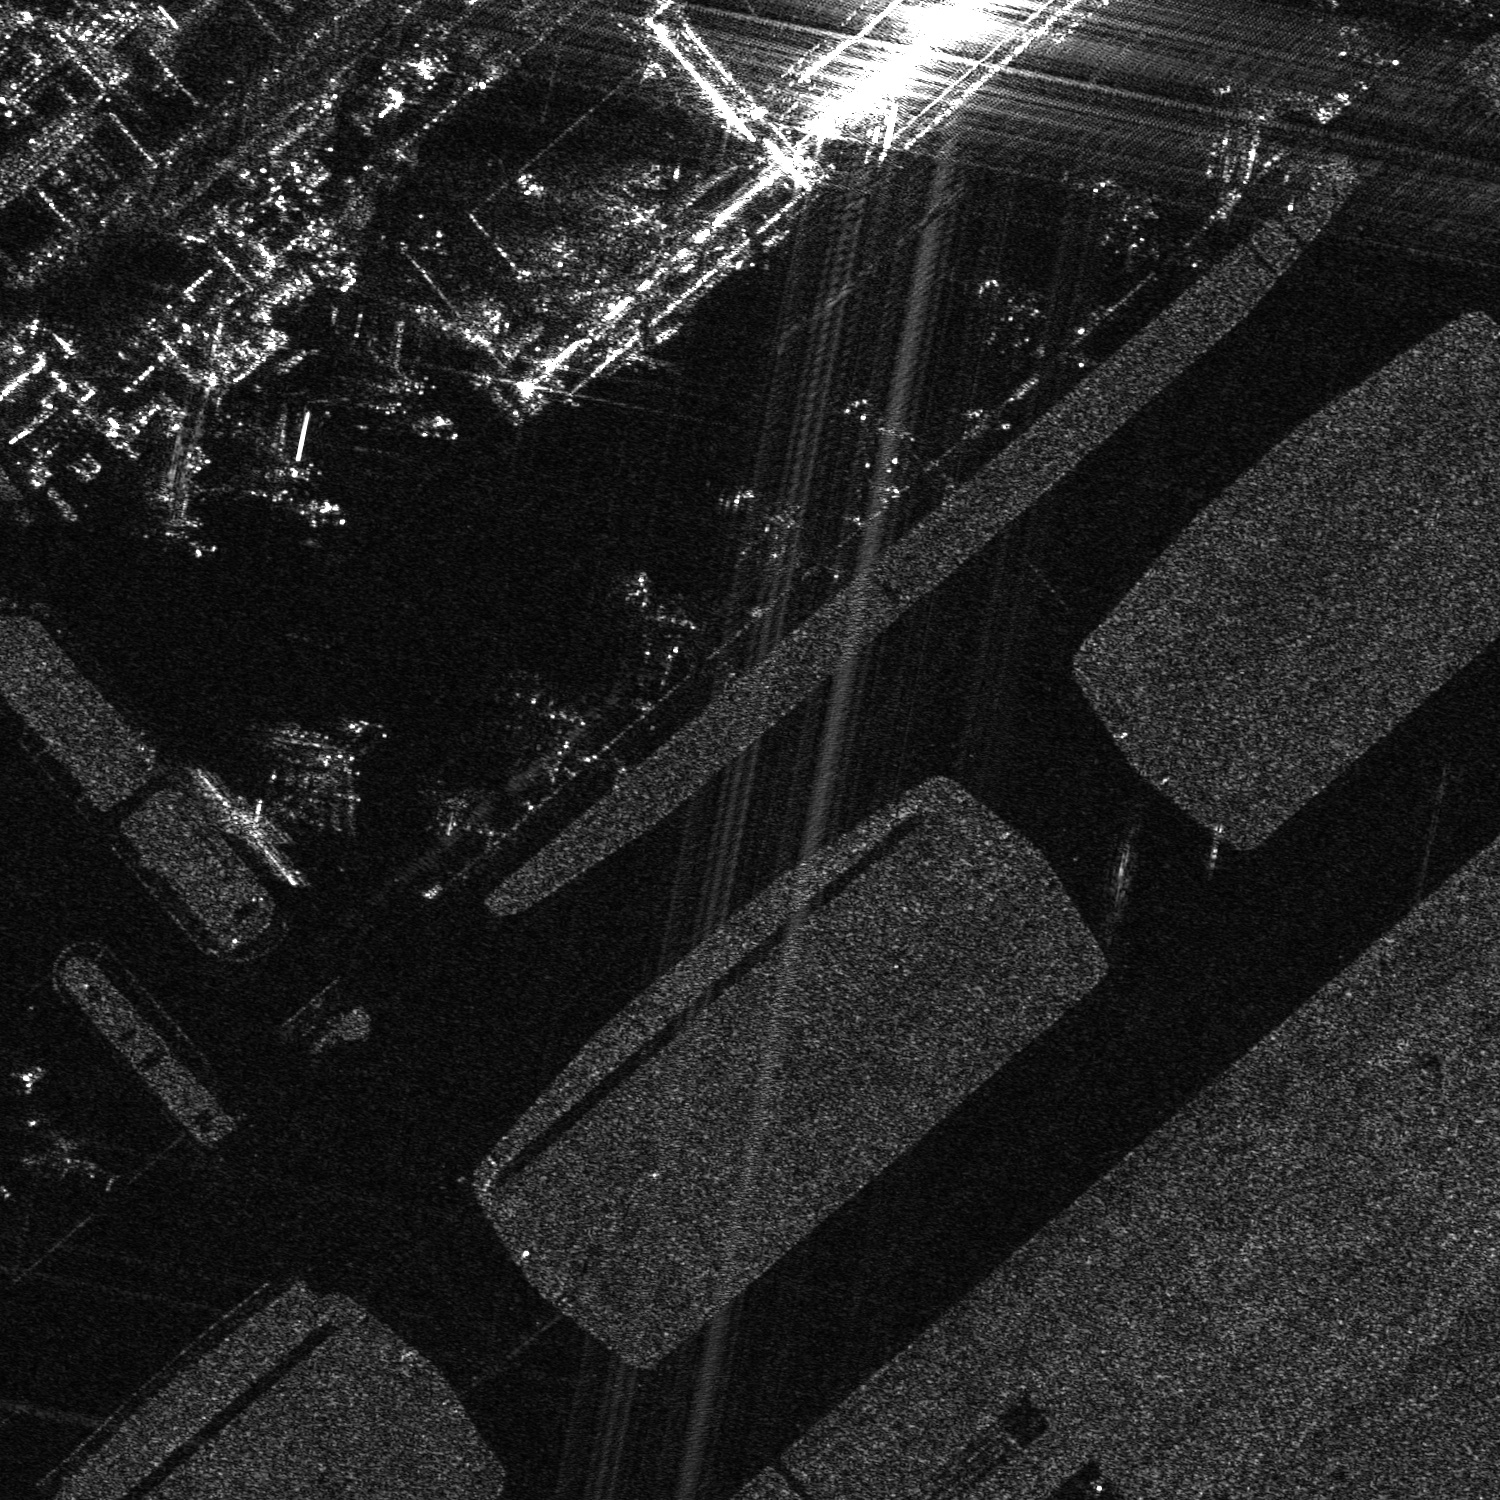Boeing737: (25, 1104, 124, 1191), (126, 470, 196, 538)
Boeing787: (618, 560, 712, 663), (228, 401, 320, 497), (342, 315, 435, 396)
other: (262, 714, 389, 837), (489, 657, 593, 771), (834, 379, 931, 488), (716, 479, 815, 574), (963, 262, 1056, 363), (1082, 172, 1174, 265)
